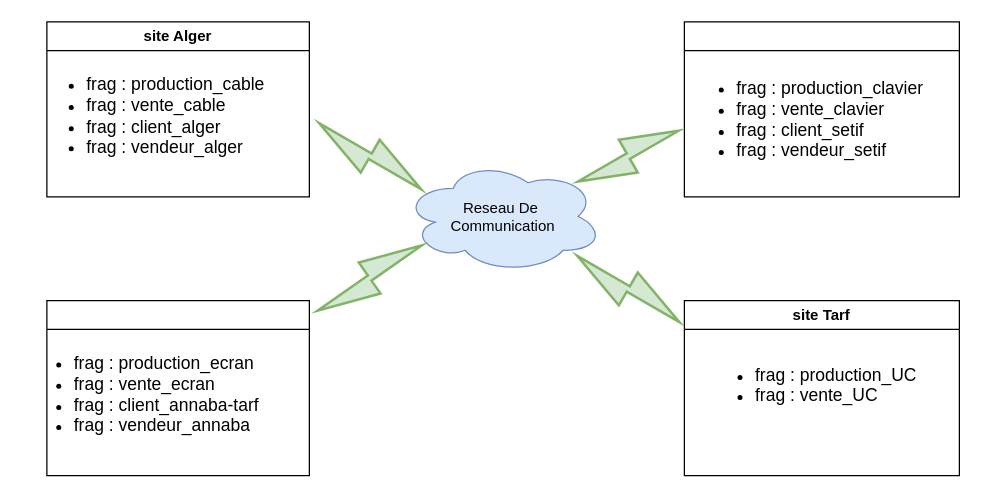
The diagram is 981 pixels wide and 498 high, and some of its shapes have lost their labels. The box of each missing label's shape, as (x1, y1, x2, y2) in pixels:
site Annaba: (46, 299, 309, 476)
site Setif: (683, 21, 959, 197)
